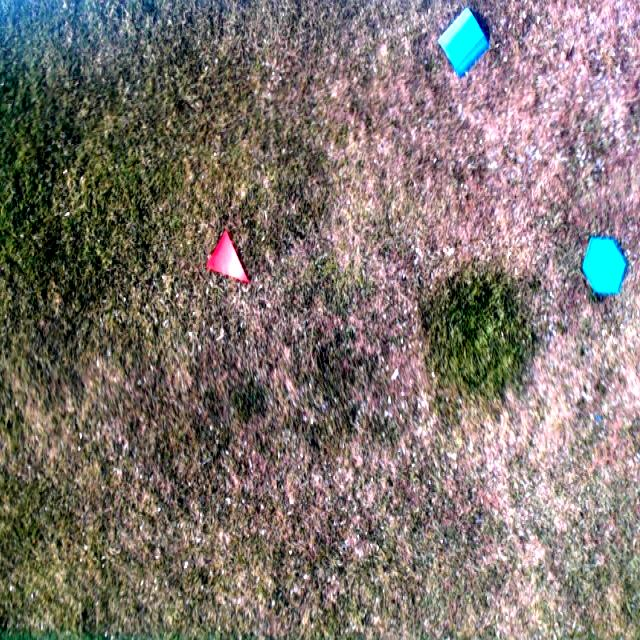blue_hexagon: (582, 234, 627, 299)
blue_square: (439, 7, 489, 80)
red_square: (205, 227, 251, 286)
